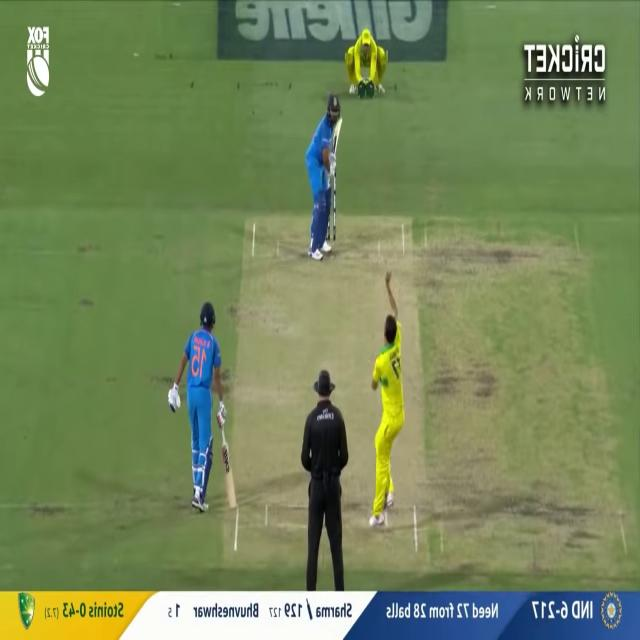stump: (325, 168, 336, 241)
